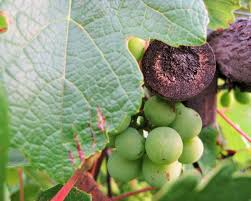grapes: (109, 92, 192, 185)
